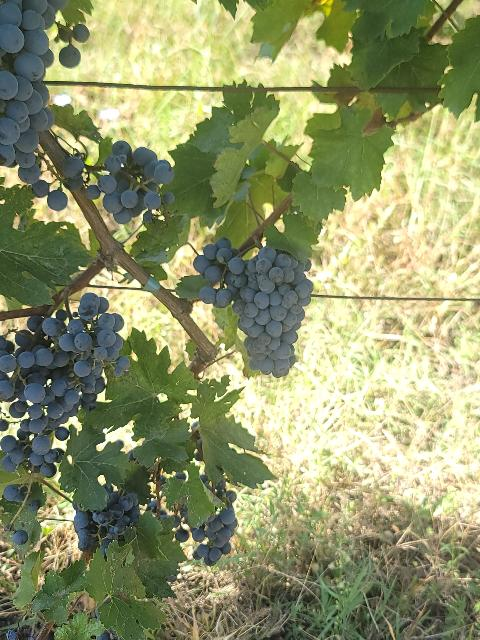grapes: (194, 238, 314, 378), (0, 316, 81, 478), (0, 0, 54, 184), (41, 292, 130, 395), (86, 140, 175, 224)
